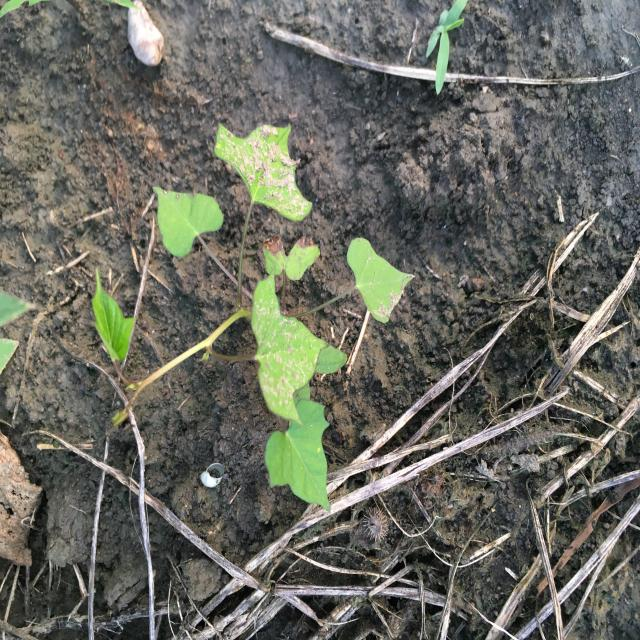Goosegrass: (424, 2, 469, 97)
MorningGlory: (88, 120, 418, 519)
